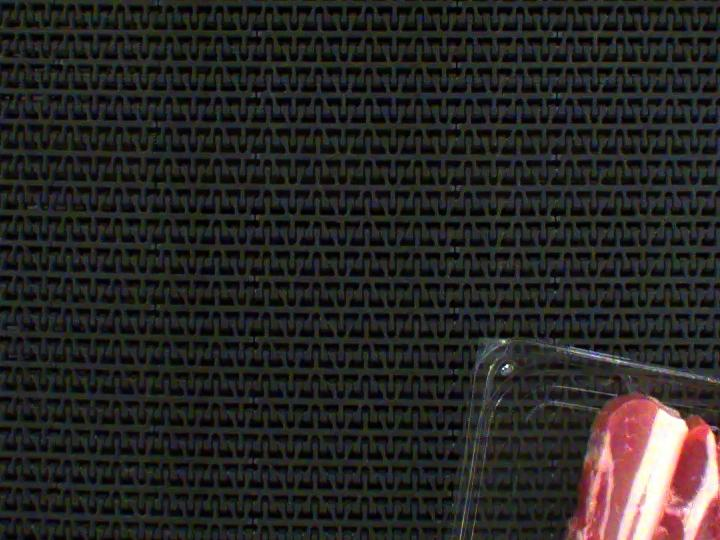packaging-error: (619, 374, 660, 407)
